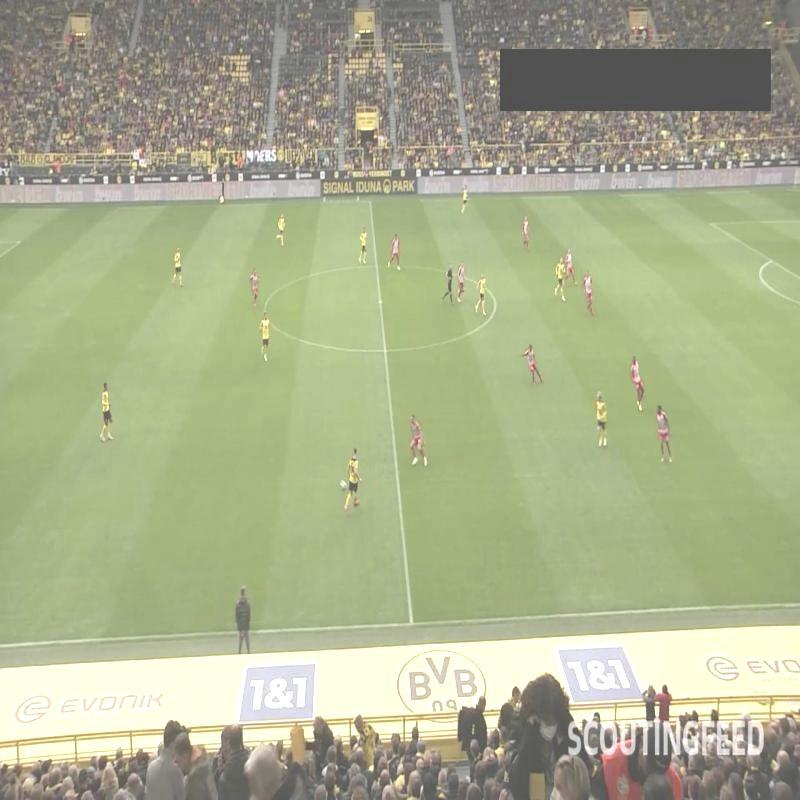1: (787, 183, 800, 197)
10: (762, 252, 780, 270)
13: (364, 195, 378, 209)
14: (370, 259, 384, 273)
15: (378, 344, 392, 358)
16: (403, 612, 422, 632)
9: (702, 216, 720, 233), (13, 235, 28, 249)
c: (256, 302, 273, 318), (489, 296, 503, 310)
